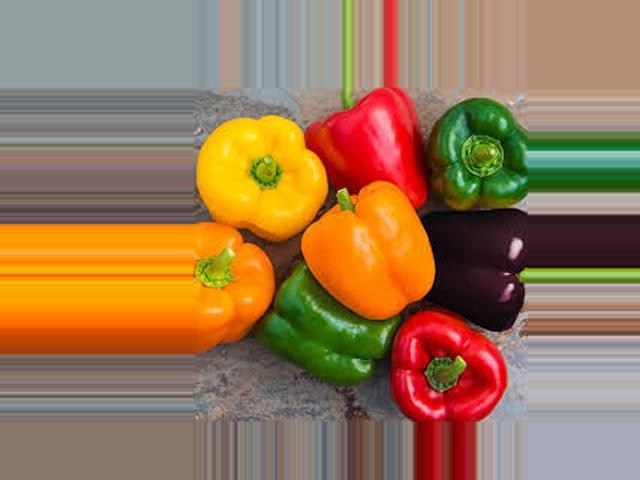bell_pepper: (193, 224, 301, 381)
